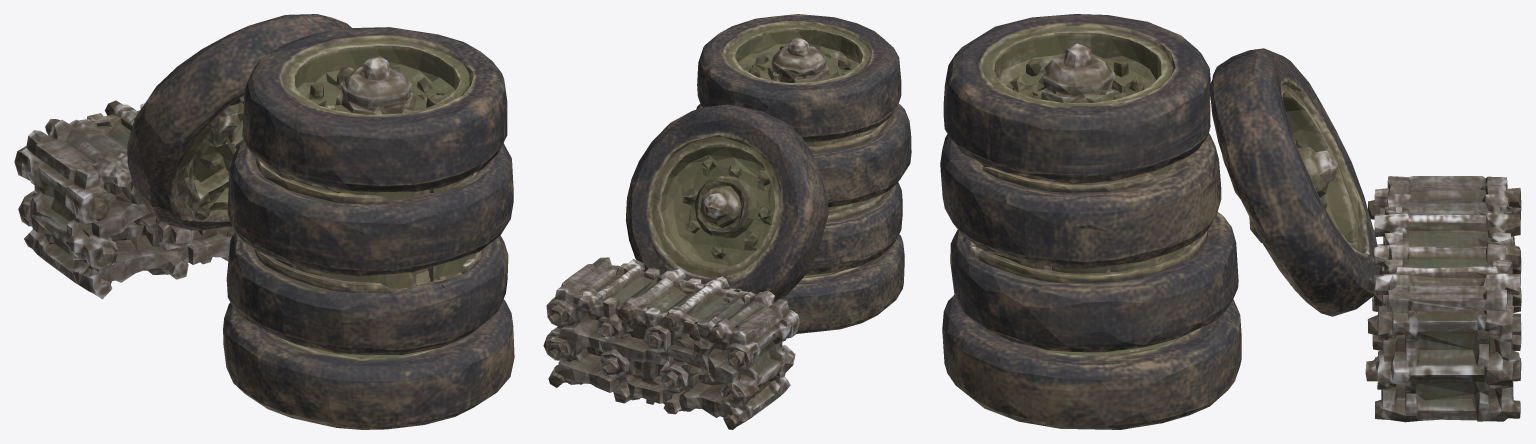
Rendered from wheels.obj.
The picture shows the model from 3 angles, left to right: view 1: azimuth 30°, elevation 25°; view 2: azimuth 150°, elevation 25°; view 3: azimuth 270°, elevation 25°; orthographic projection. The views are drawn at different scales.
Parts seen in each view (by area): view 1: wheels; view 2: wheels; view 3: wheels.
Part boxes in pixels (x1=…): wheels: x1=14, y1=14, x2=514, y2=429; wheels: x1=543, y1=14, x2=911, y2=429; wheels: x1=940, y1=14, x2=1521, y2=429.
Bounding box in the file's own units: 0.7274 × 0.8182 × 1.3.
1 material, 1 textured.
